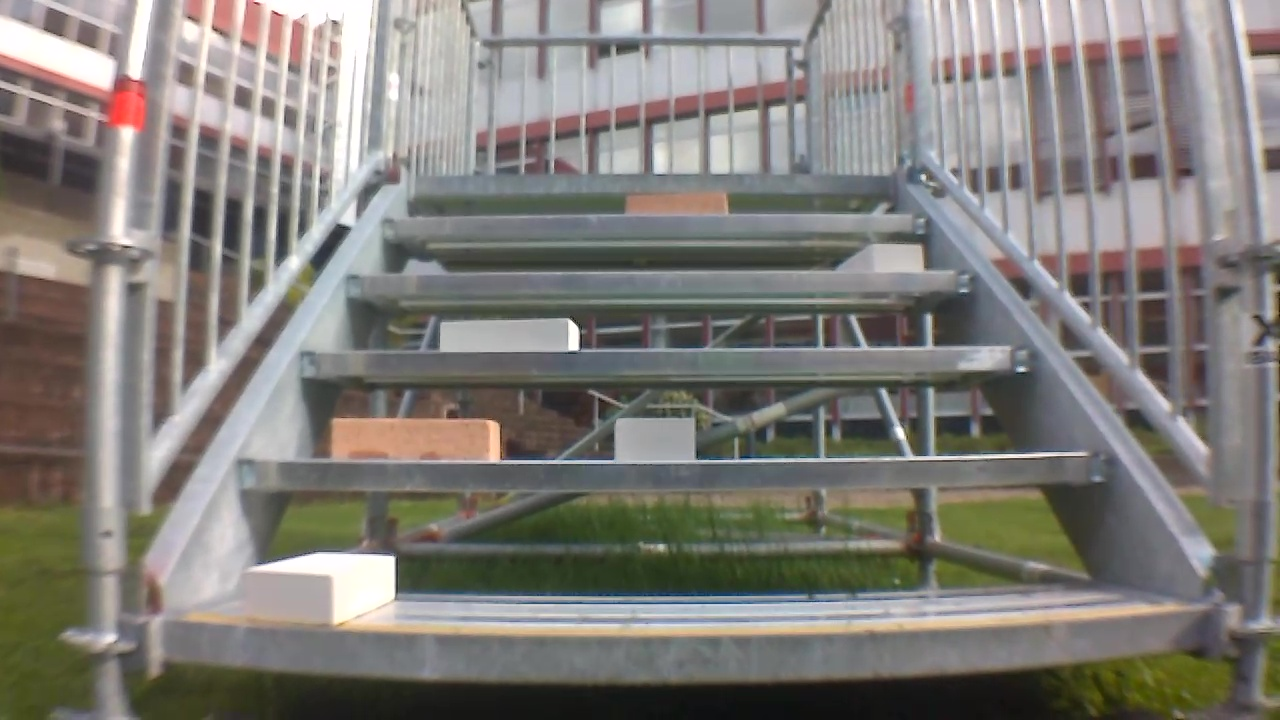brick: (238, 551, 406, 622), (329, 415, 509, 458), (437, 317, 579, 358), (612, 415, 697, 462), (620, 191, 727, 218), (837, 243, 928, 269)
edge: (165, 610, 1225, 665), (236, 450, 1118, 493), (298, 345, 1036, 380), (340, 269, 976, 299), (377, 213, 932, 238), (409, 174, 903, 198)
stairs: (76, 0, 1251, 715)
steps: (147, 169, 1219, 673)
